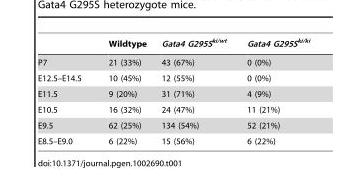table: (37, 37, 310, 145)
table column: (153, 37, 236, 145), (236, 37, 310, 145), (94, 37, 153, 145), (37, 37, 94, 145)
table column header: (37, 37, 310, 52)
table row: (37, 52, 310, 70), (37, 85, 310, 101), (37, 101, 310, 117), (37, 117, 310, 133), (37, 37, 310, 52), (37, 70, 310, 85), (37, 133, 310, 145)
